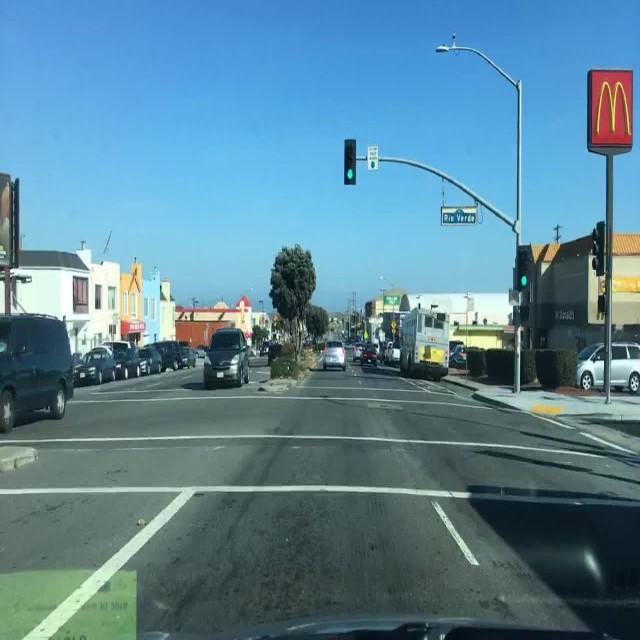normal: (165, 272, 299, 436), (290, 313, 383, 392)
